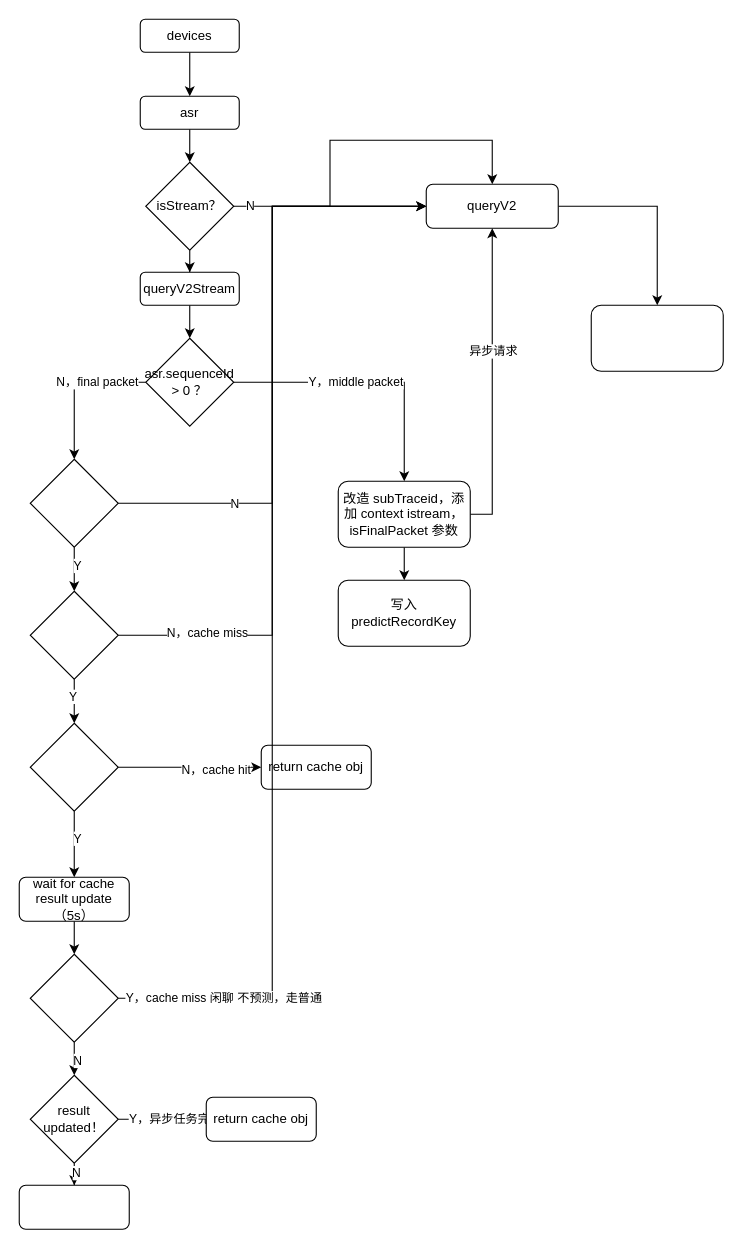
Some shapes in this 743 by 1249 pixel diagram are drawn without their labels. The centre of each missing label's shape, as x and y in pixels:
"hash field 是否为 processing" goes at (x=73, y=766).
"hub 处理流程" goes at (x=656, y=337).
"if hash field deleted ?" goes at (x=73, y=997).
"predictRecordKey exist ？" goes at (x=73, y=502).
"query 是否命中" goes at (x=73, y=634).
"throw exception" goes at (x=73, y=1206).
